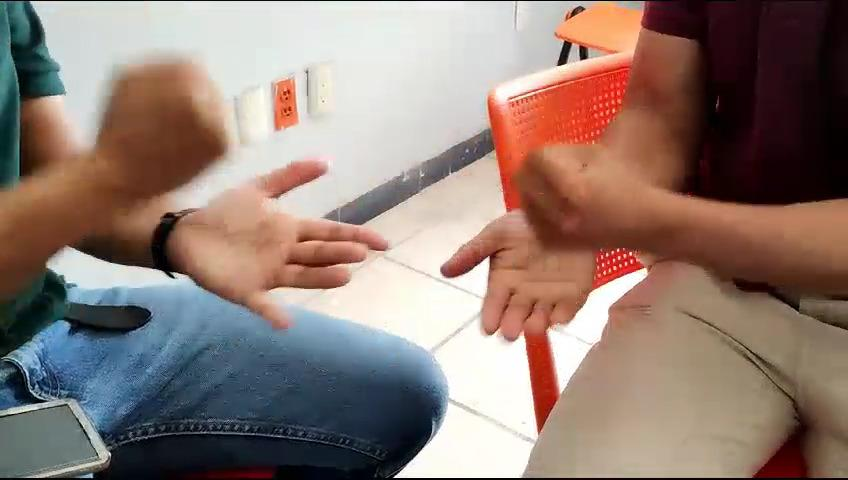Stone: (80, 26, 281, 207), (498, 112, 688, 295)
